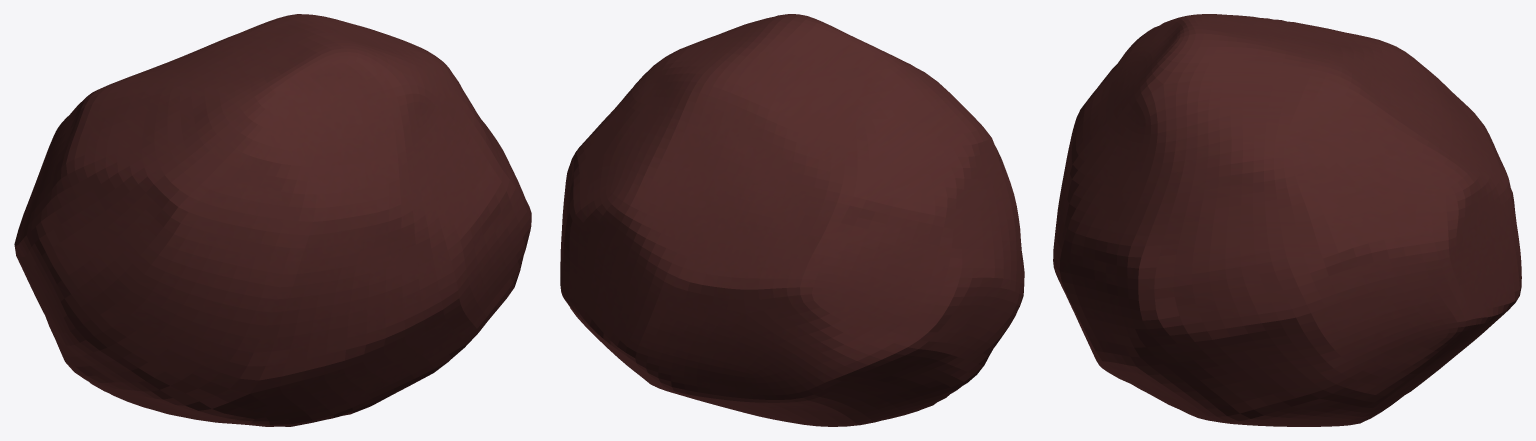
The model's file is Rock1_Textured.fbx.
The picture shows the model from 3 angles, left to right: view 1: azimuth 30°, elevation 25°; view 2: azimuth 150°, elevation 25°; view 3: azimuth 270°, elevation 25°; orthographic projection. The views are drawn at different scales.
Visible parts, largest first — view 1: Burned_tree1_LowPoly:Group52281; view 2: Burned_tree1_LowPoly:Group52281; view 3: Burned_tree1_LowPoly:Group52281.
Part boxes in pixels (bbox=[...]): Burned_tree1_LowPoly:Group52281: bbox=[14, 14, 531, 426]; Burned_tree1_LowPoly:Group52281: bbox=[560, 14, 1024, 426]; Burned_tree1_LowPoly:Group52281: bbox=[1053, 14, 1521, 426].
Size of the model in its own units: 1.2 by 0.9126 by 1.07.
1 material, 1 textured.
